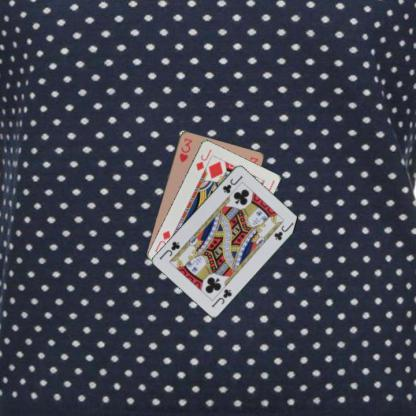3h: (176, 135, 194, 164)
Jc: (219, 172, 244, 194), (209, 286, 233, 308)
Jd: (193, 146, 213, 172)
